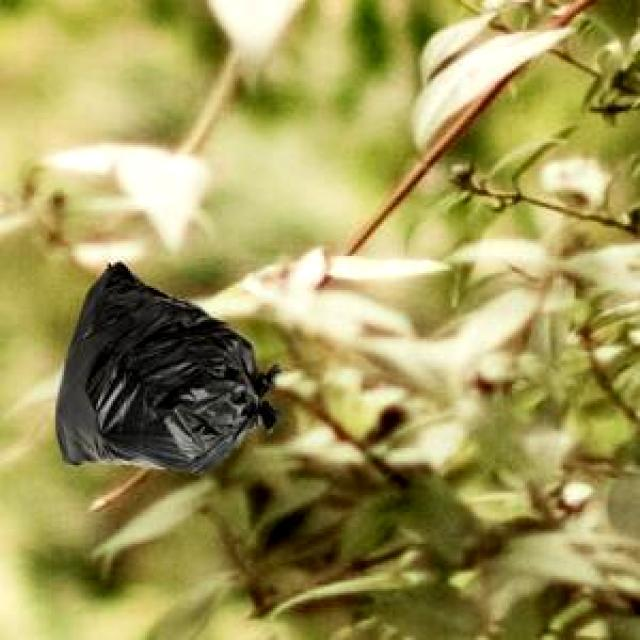Garbage_Bag: (52, 260, 276, 470)
